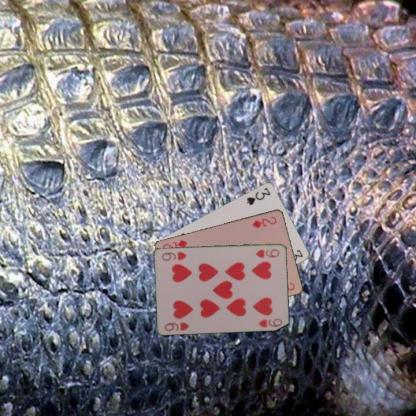2d: (250, 214, 278, 229)
3s: (244, 185, 271, 206)
9h: (253, 246, 281, 259), (162, 319, 190, 332)
